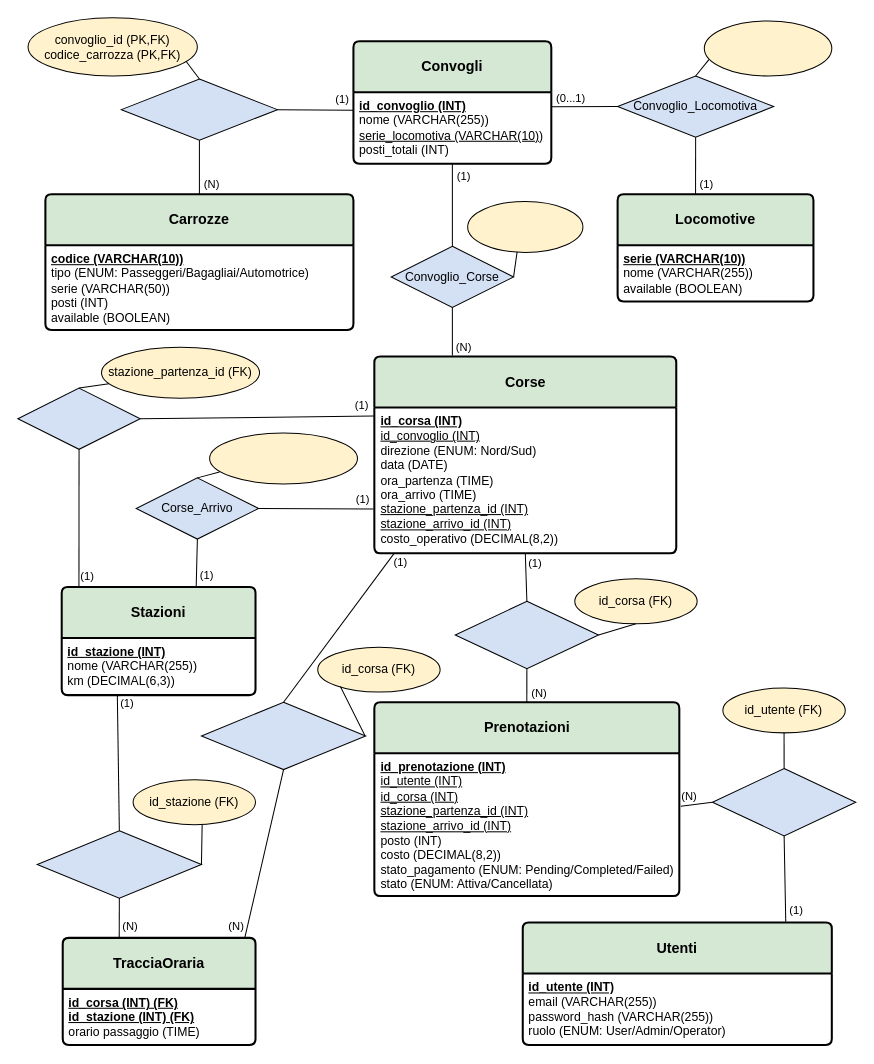
The diagram is 874 pixels wide and 1064 high, and some of its shapes have lost their labels. Here are the shapes that lost their labels. From the top down, the centre of each, then its label:
At pixel 767 48: "serie_locomotiva (FK in Convogli)".
At pixel 198 109: "Convoglio_Carrozza".
At pixel 525 226: "id_convoglio (FK in Corse)".
At pixel 78 418: "Corse_Partenza".
At pixel 283 458: "stazione_arrivo_id (FK)".
At pixel 526 634: "Prenotazioni_Corse".
At pixel 283 735: "TracciaOraria_Corse".
At pixel 783 802: "Prenotazioni_Utenti".
At pixel 118 864: "TracciOraria_Stazioni".
